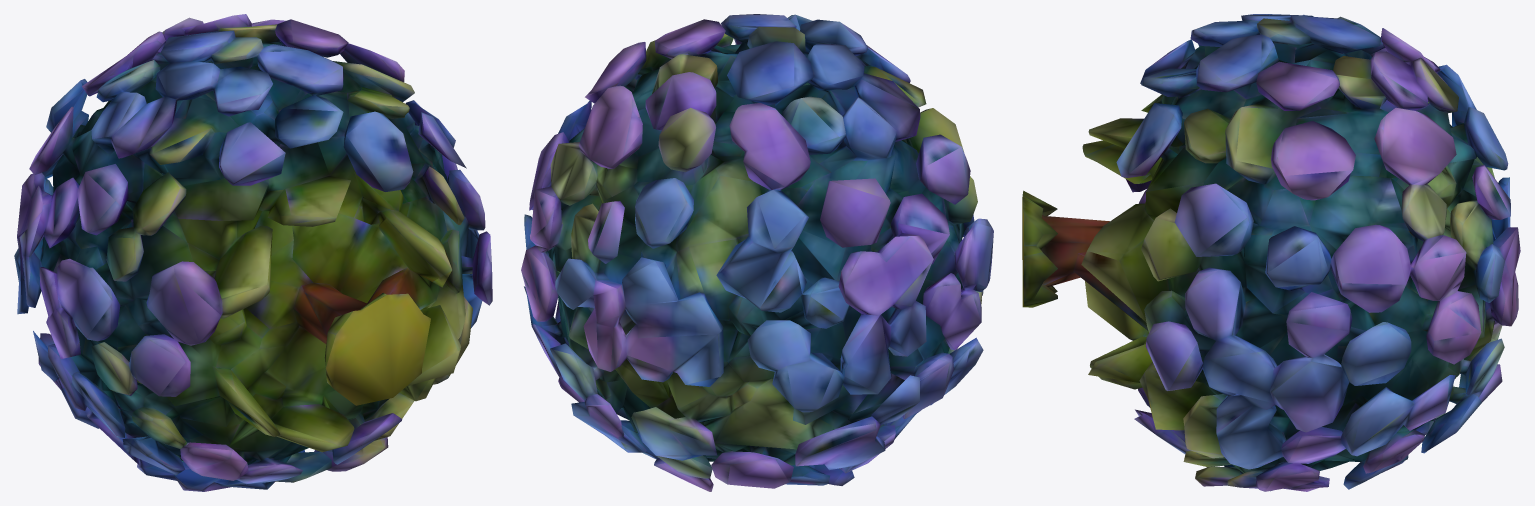
3 renders of one model, left to right at view 1: azimuth 30°, elevation 25°; view 2: azimuth 150°, elevation 25°; view 3: azimuth 270°, elevation 25°, orthographic.
Parts seen in each view (by area): view 1: material; view 2: material; view 3: material.
Part boxes in pixels (x1,y1,x2,y2): material: (14,14,492,491); material: (521,14,993,491); material: (1022,14,1520,491).
Bounding box in the file's own units: 0.977 × 0.9847 × 1.
1 material, 1 textured.
